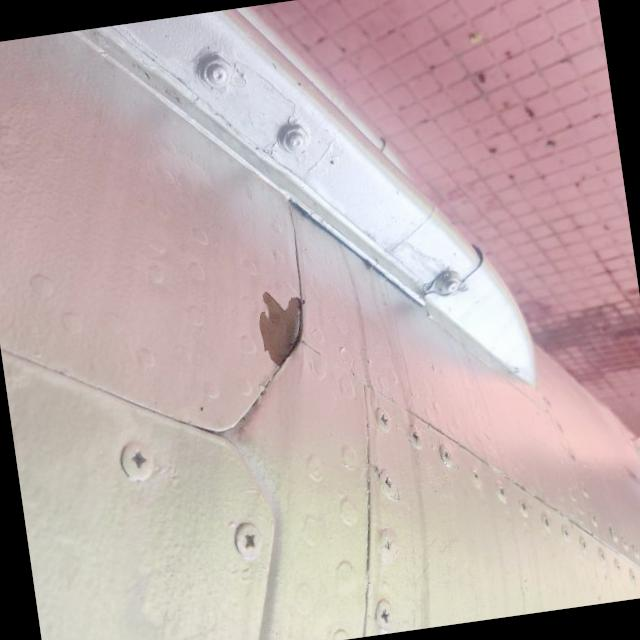paint-off: (227, 275, 338, 390)
